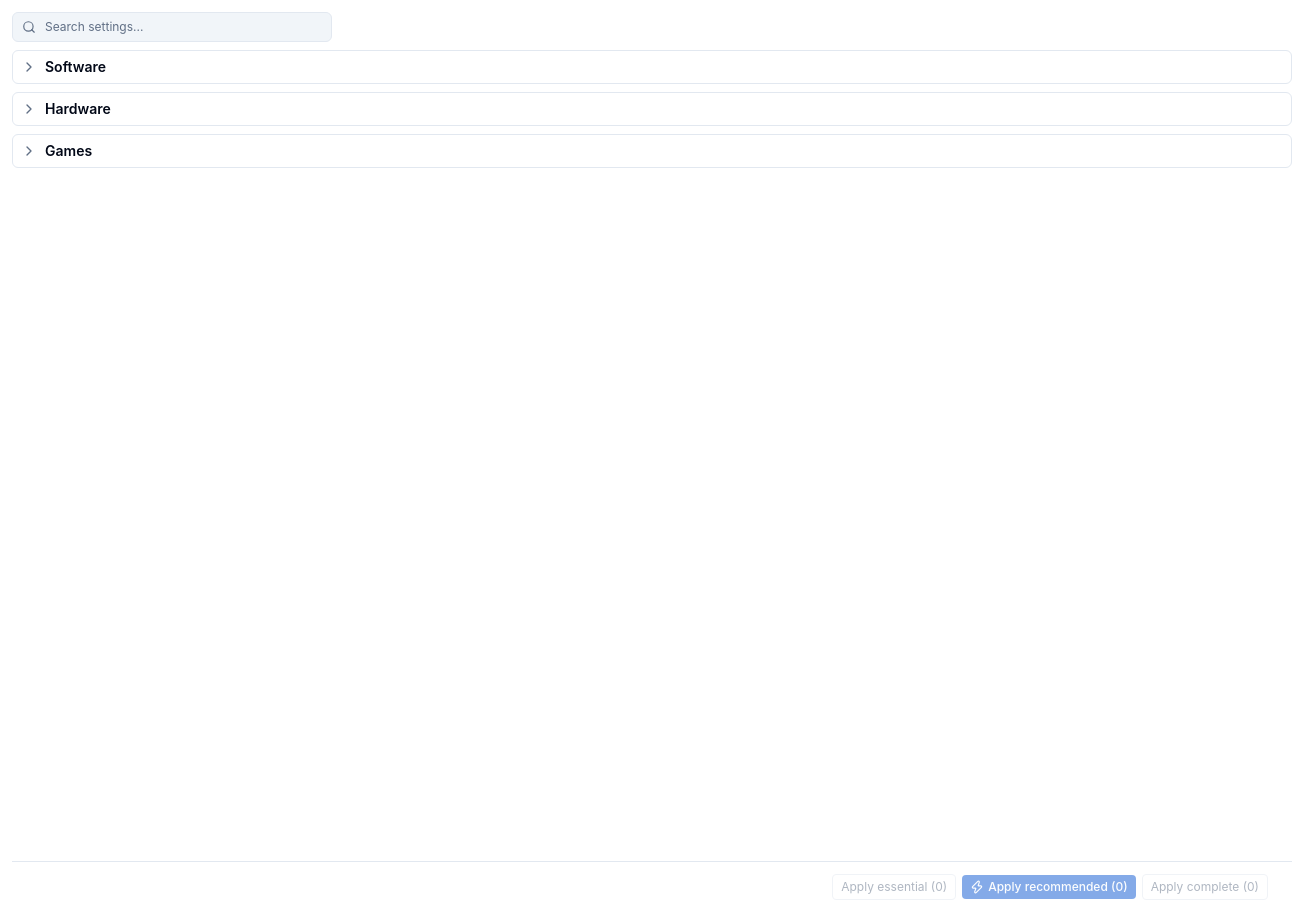
Test: a check that read nothing says so on its line › says nothing was read, without a guess, when there is no reason to give
Click the button "Software" at (76, 66), box [21,57,1275,77]
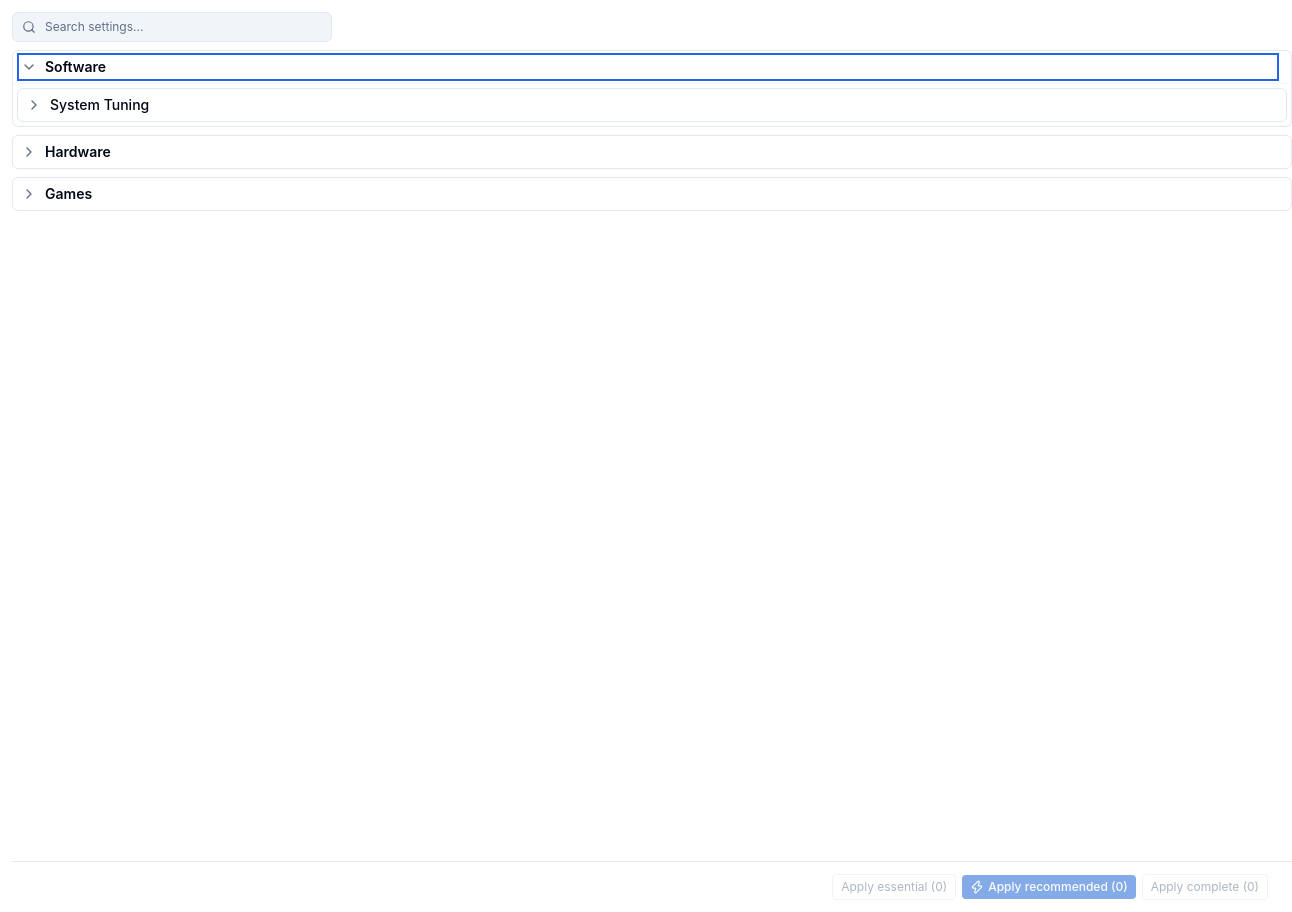
Click the button "System Tuning" at (100, 104), box [26,95,1270,115]
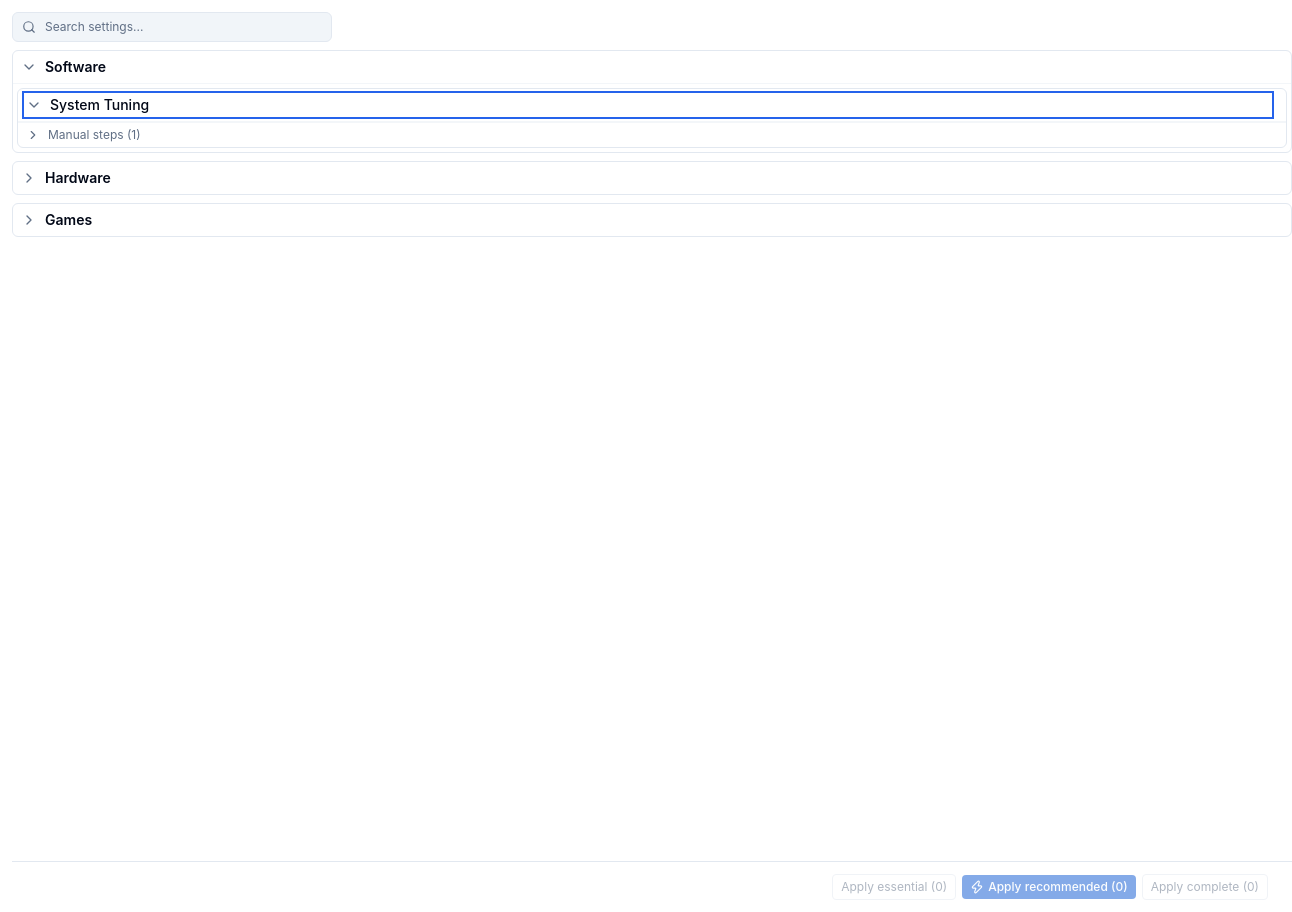
Click the button "Manual steps (1)" at (94, 134), box [18,123,1286,147]
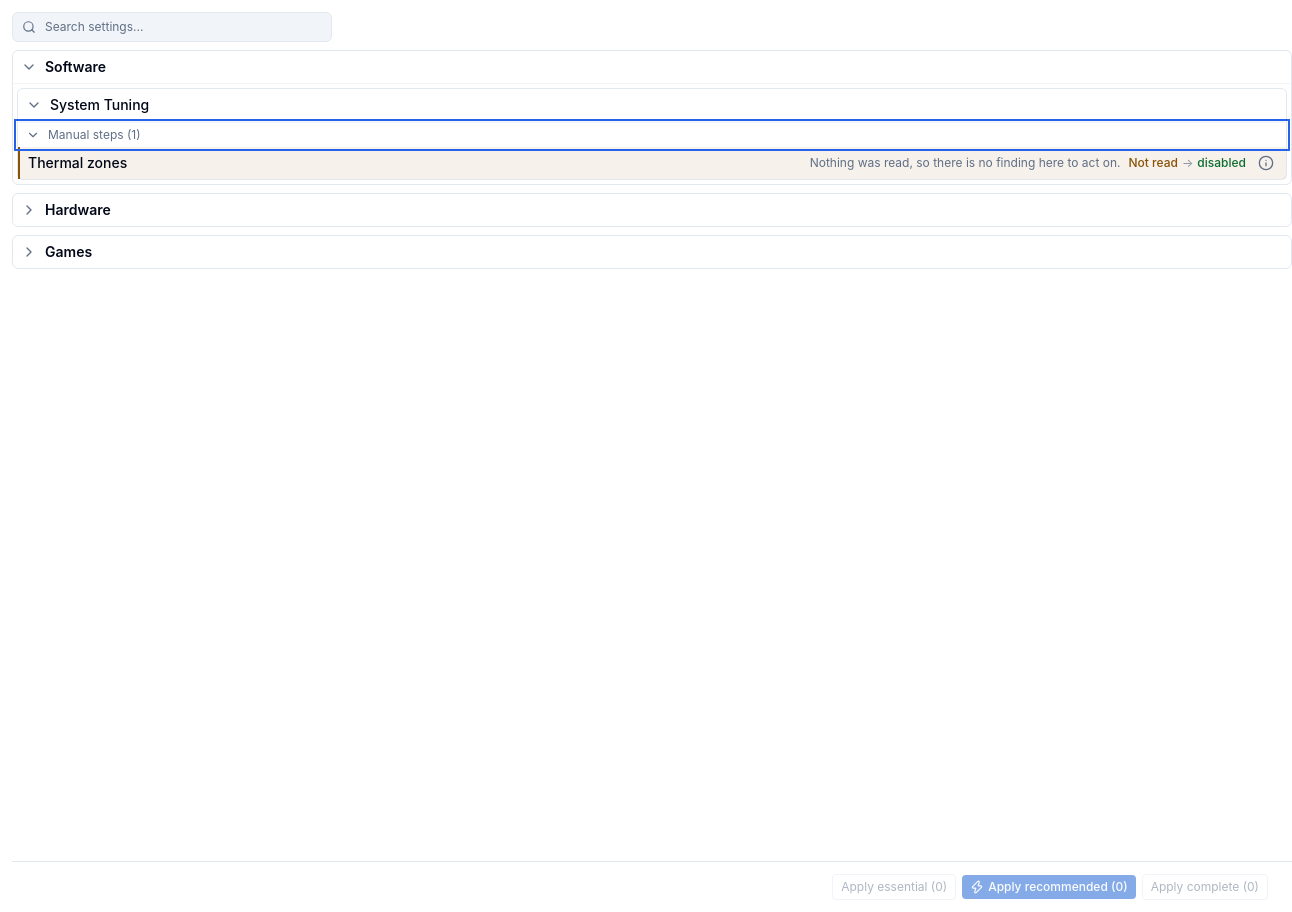
Result: the text "Nothing was read, so there is no finding here to act on." is shown at [810,155,1120,171]
